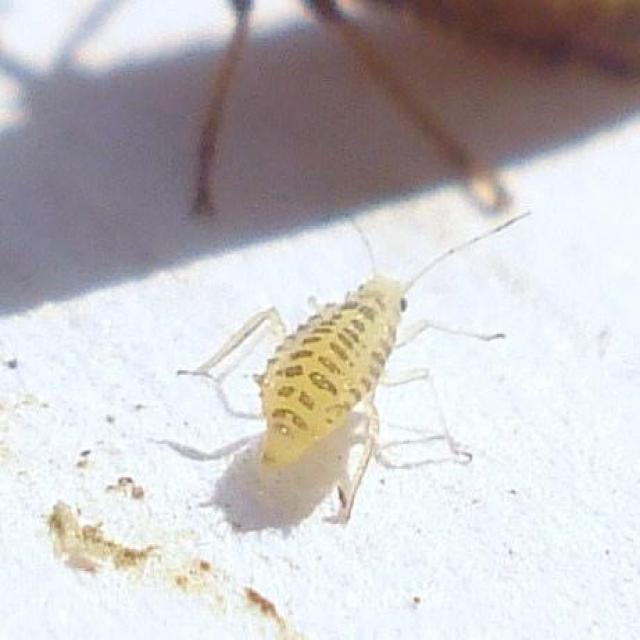Aphids: (174, 160, 570, 519)
